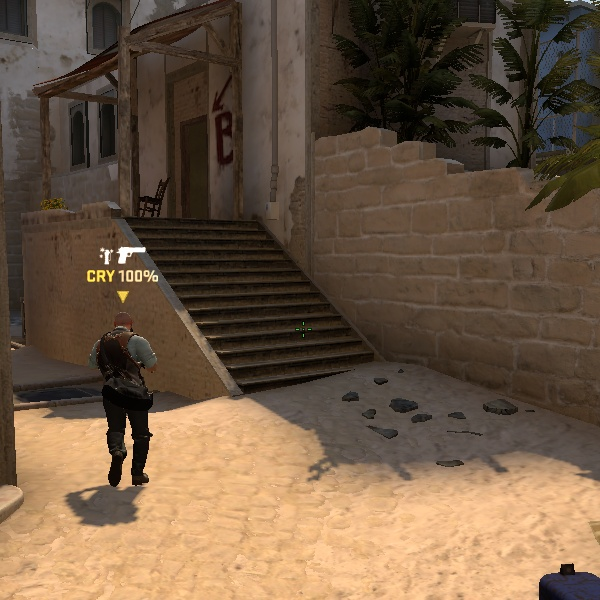t_body: (65, 306, 180, 495)
t_head: (105, 307, 142, 343)
